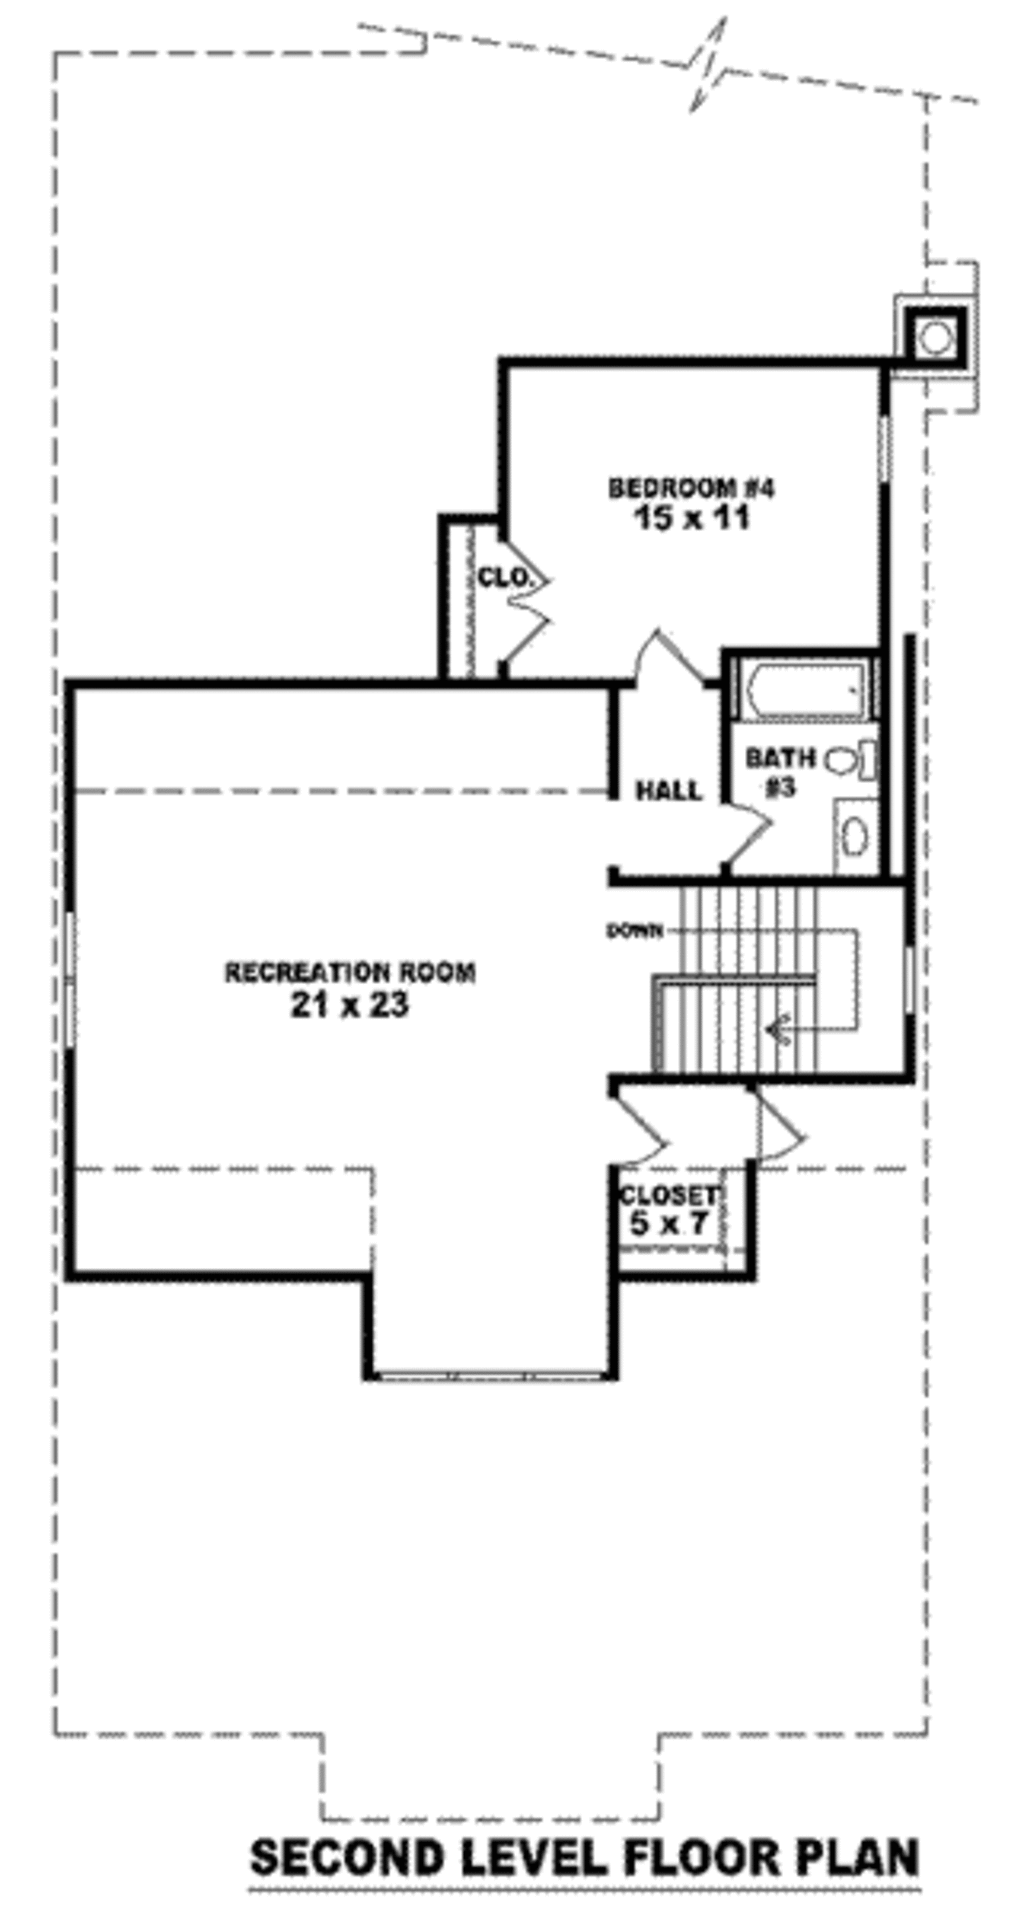door: (446, 513, 571, 691), (592, 1089, 684, 1173), (732, 1084, 823, 1167), (705, 799, 777, 881), (633, 627, 711, 689)
large_sink: (813, 723, 889, 789)
small_sink: (825, 797, 905, 892)
stairs: (611, 892, 913, 1087)
tub: (733, 663, 881, 719)
window: (41, 903, 105, 1079), (375, 1357, 611, 1389), (875, 408, 908, 497)
